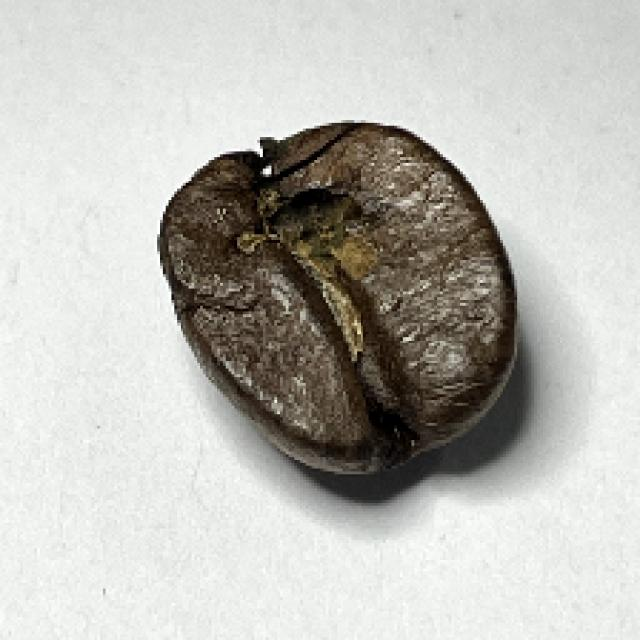bean: (156, 117, 535, 475)
